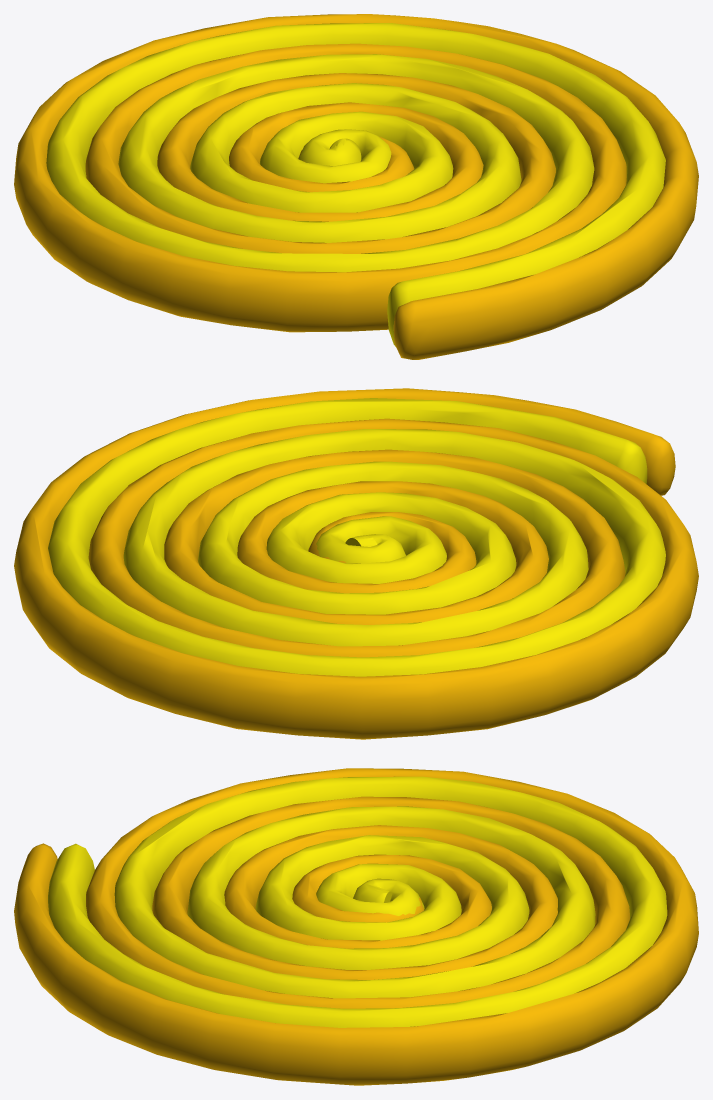
Rendered from lollipop2_LODs.fbx.
3 renders of one model, top to bottom at view 1: azimuth 30°, elevation 25°; view 2: azimuth 150°, elevation 25°; view 3: azimuth 270°, elevation 25°, orthographic. The views are drawn at different scales.
Visible parts, largest first — view 1: lollipop2_LOD0; view 2: lollipop2_LOD0; view 3: lollipop2_LOD0.
Boxes of the visible parts, box(x1,y1,x2,y2) form: lollipop2_LOD0: box(14, 14, 698, 359); lollipop2_LOD0: box(14, 388, 698, 739); lollipop2_LOD0: box(14, 768, 698, 1085).
Size of what is drawn, in the model's own units: 222 by 25.09 by 235.
